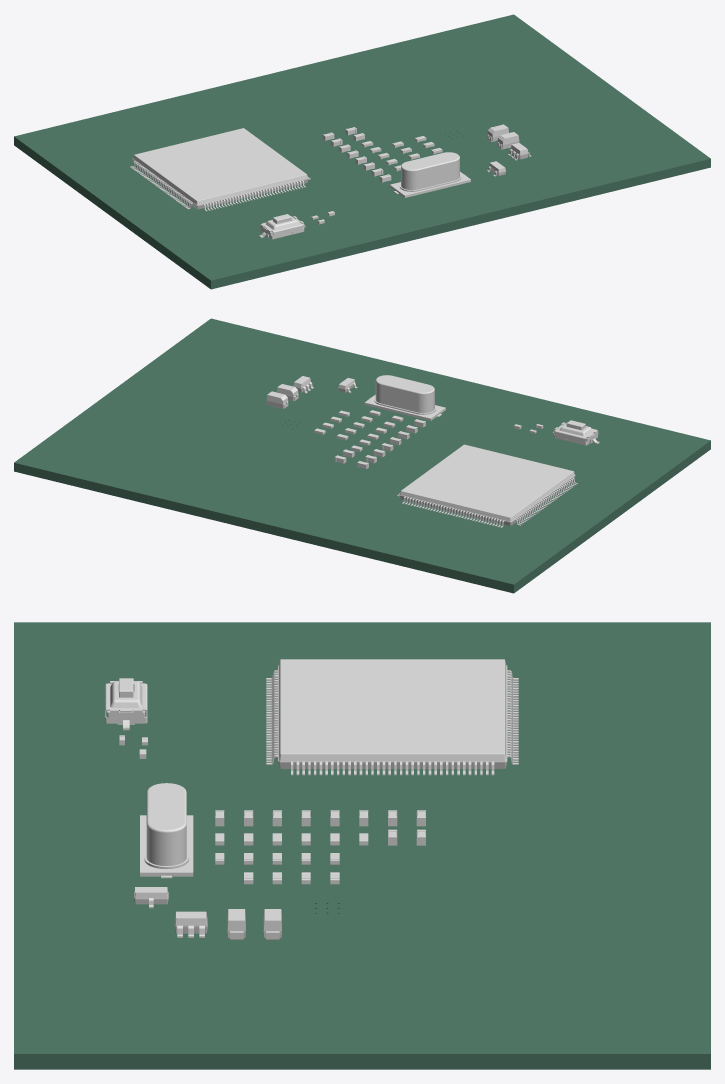
File: NavKF_REV-15.glb
3 views of the same model, one above another, from view 1: azimuth 30°, elevation 25°; view 2: azimuth 150°, elevation 25°; view 3: azimuth 270°, elevation 25° (orthographic). The views are drawn at different scales.
Visible parts, largest first — view 1: =>[0:1:1:14], U3, Y3, SW1; view 2: =>[0:1:1:14], U3, Y3, SW1; view 3: =>[0:1:1:14], U3, Y3, SW1, U2.
Part boxes in pixels (bbox=[...]): =>[0:1:1:14]: bbox=[14, 14, 710, 289]; U3: bbox=[130, 128, 310, 211]; Y3: bbox=[389, 152, 470, 197]; SW1: bbox=[259, 214, 305, 239]; =>[0:1:1:14]: bbox=[14, 318, 710, 593]; U3: bbox=[397, 444, 577, 527]; Y3: bbox=[364, 375, 445, 420]; SW1: bbox=[552, 420, 599, 445]; =>[0:1:1:14]: bbox=[14, 622, 710, 1069]; U3: bbox=[266, 659, 518, 775]; Y3: bbox=[140, 783, 193, 878]; SW1: bbox=[105, 678, 147, 730]; U2: bbox=[174, 911, 207, 937].
Bounding box in the file's own units: 0.089 × 0.0056 × 0.0608.
